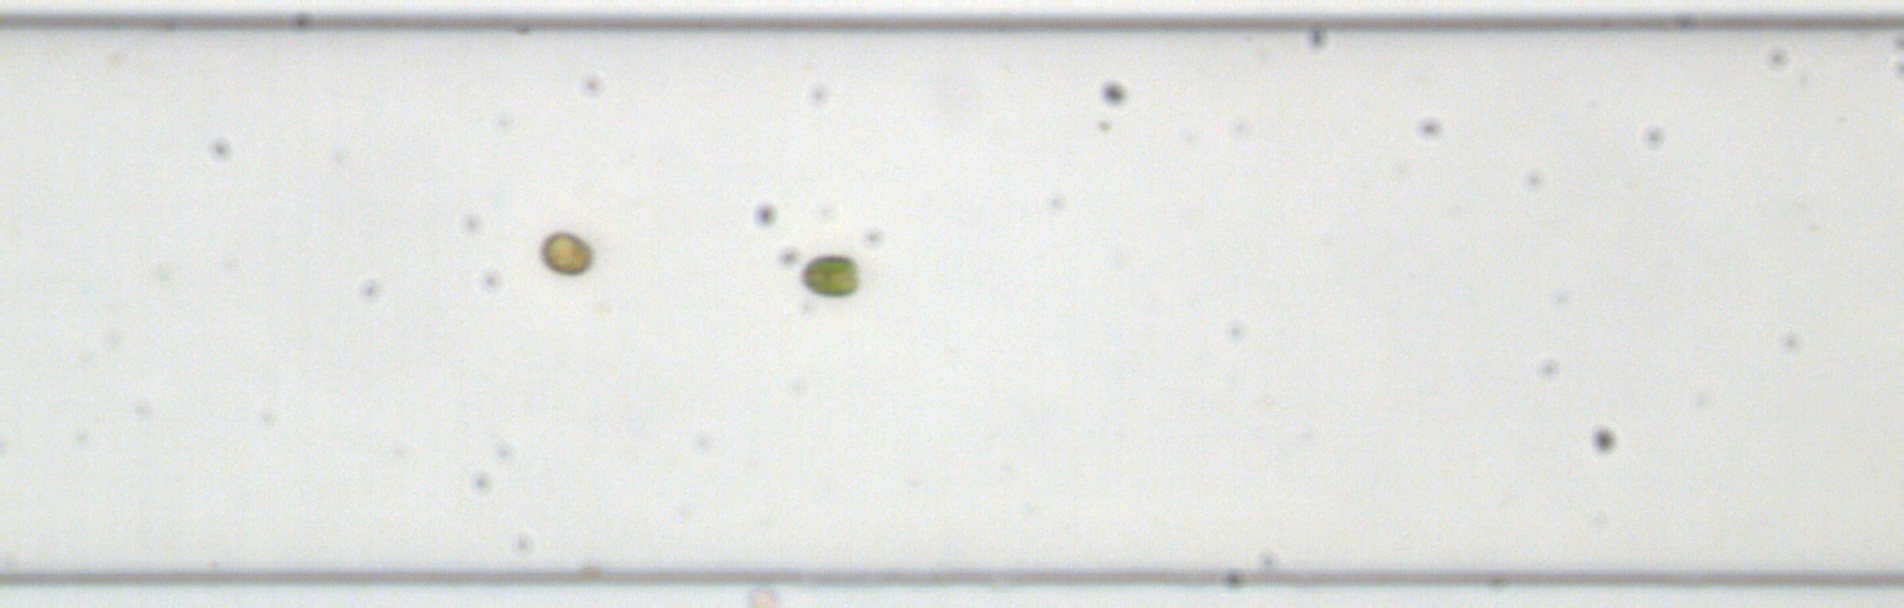Effrenium: (538, 228, 597, 275)
Platymonas: (797, 252, 861, 299)
